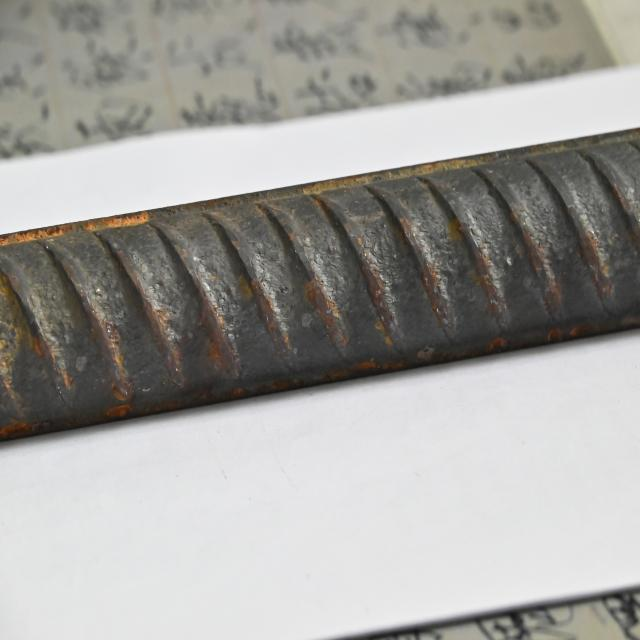ribbed bar: (0, 123, 639, 454)
